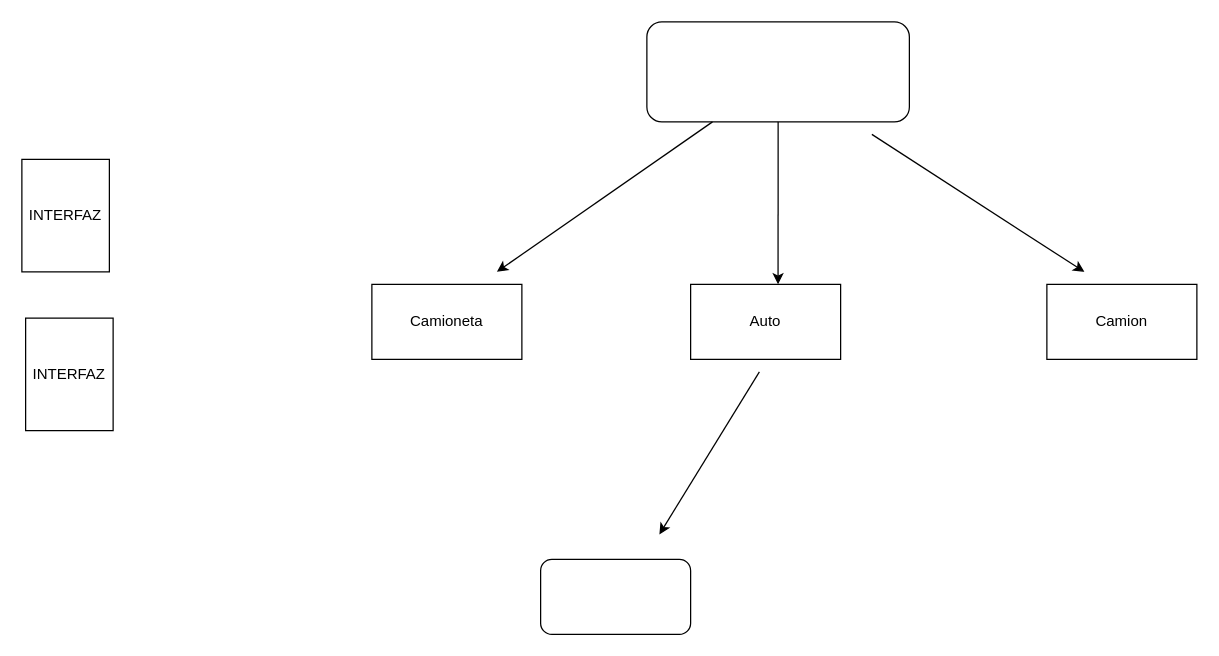
The diagram is 1219 pixels wide and 656 high, and some of its shapes have lost their labels. The box of each missing label's shape, as (x1, y1, x2, y2) in pixels:
Utilitario: (539, 558, 691, 634)
vehiculo Abstracta: (646, 21, 909, 122)
